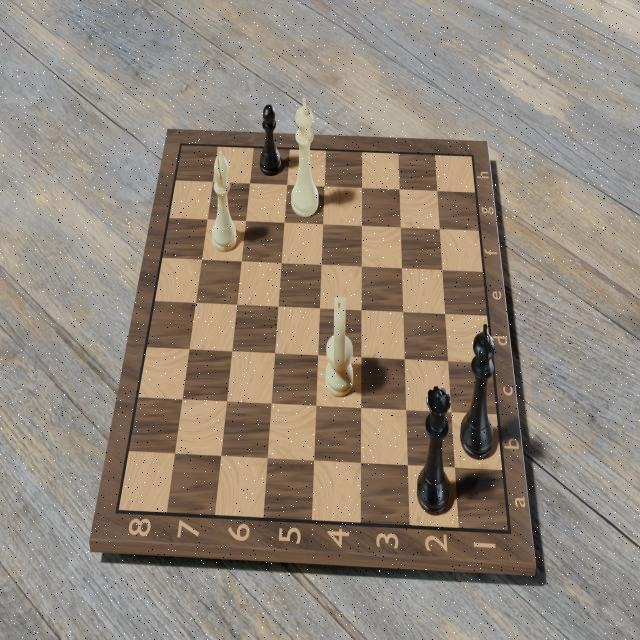black-king: (458, 321, 499, 463)
black-pawn: (256, 97, 284, 180)
black-queen: (415, 382, 456, 525)
white-bishop: (207, 147, 240, 257)
white-king: (288, 97, 325, 224)
white-knight: (321, 291, 359, 408)
